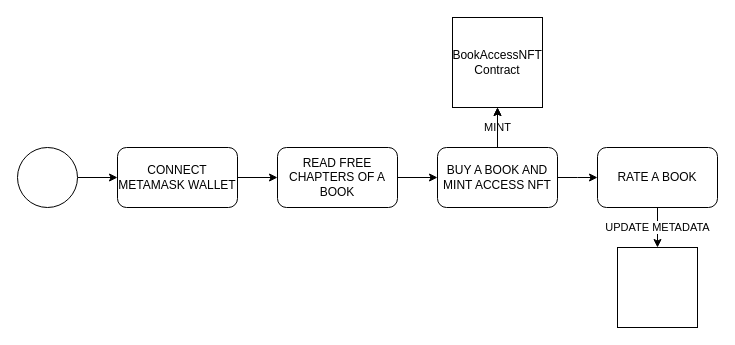
This 735x345 diagram has some shape labels left out. The shapes that lost their labels are listed below. From the top down, each one's centre as x and y in pixels, then its label:
the point at 47,177: READER
the point at 657,287: IPFS
